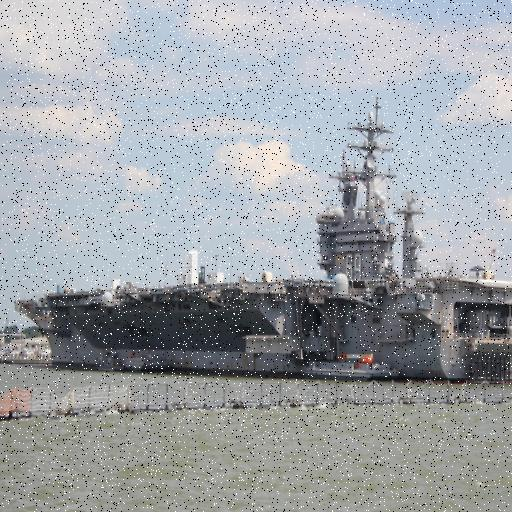Portanaves: (13, 89, 512, 387)
